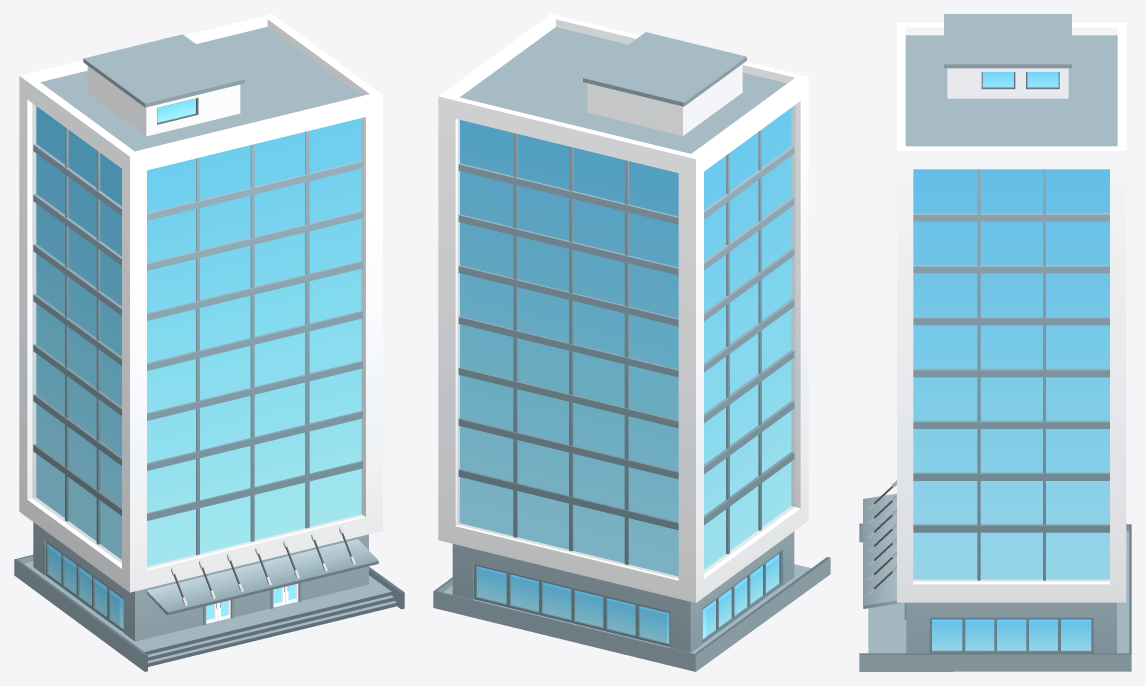
The model's file is city2-building-business-05.glb.
The picture shows the model from 3 angles, left to right: view 1: azimuth 30°, elevation 25°; view 2: azimuth 150°, elevation 25°; view 3: azimuth 270°, elevation 25°; orthographic projection. The views are drawn at different scales.
Visible parts, largest first — view 1: Building_Business_05; view 2: Building_Business_05; view 3: Building_Business_05.
Boxes of the visible parts, box(x1,y1,x2,y2) form: Building_Business_05: box(14, 14, 404, 671); Building_Business_05: box(433, 14, 830, 671); Building_Business_05: box(859, 14, 1131, 671).
Bounding box in the file's own units: 17.05 × 33.15 × 14.94.
2 materials, 2 textured.
